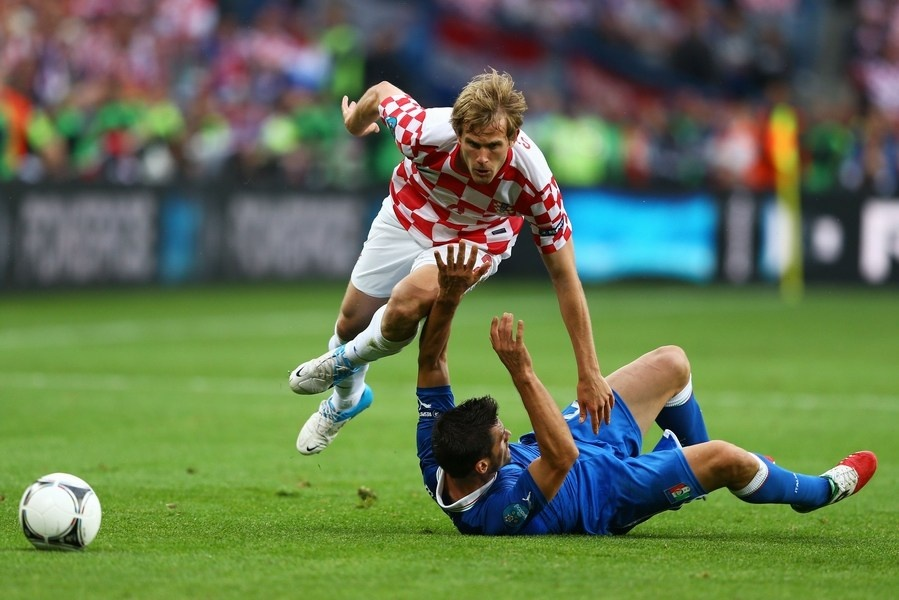falling: (412, 299, 891, 542)
